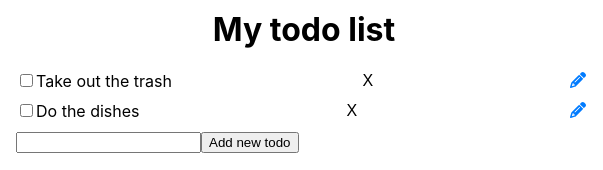
Test case: <App /> test › removes todo item from list
The width and height of the screenshot is (603, 170).
Expected: the text "Take out the trash" is shown, [36,71,172,91]
Click the button with test id "close-btn-1".
click(368, 81)  # box [357,71,379,91]
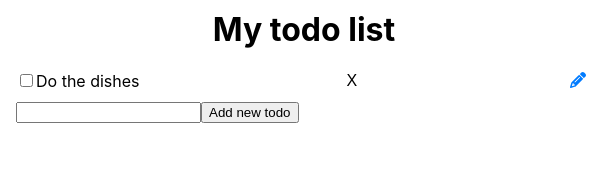
Expected: the text "Take out the trash" is gone
